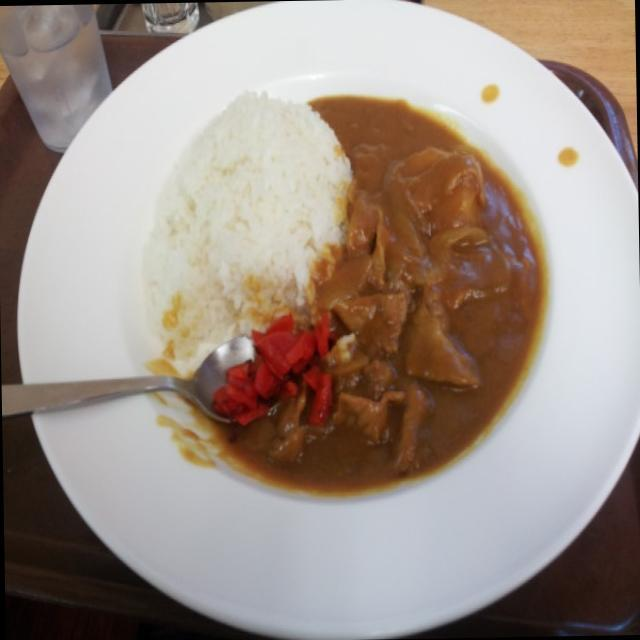Beef Curry: (304, 82, 536, 474)
Rice: (142, 84, 342, 331)
